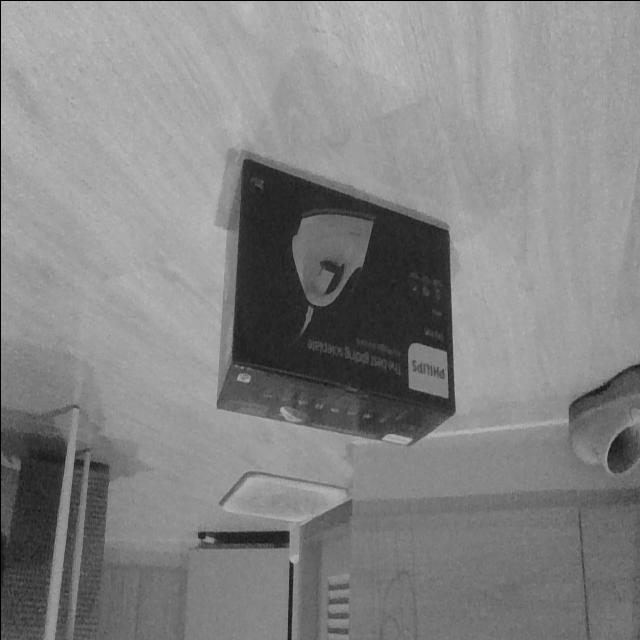Dryer: (214, 153, 458, 451)
